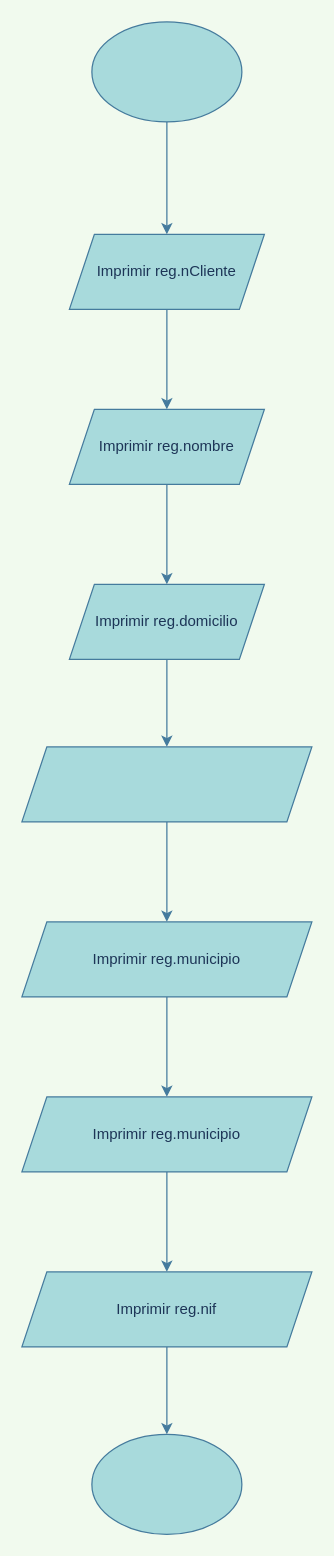
The diagram is 334 pixels wide and 1556 high, and some of its shapes have lost their labels. Each missing label, with the centre of its shape:
FIN: point 166,1483
Imprimir reg.codigoPostal: point 166,784
INICIO: point 166,71
